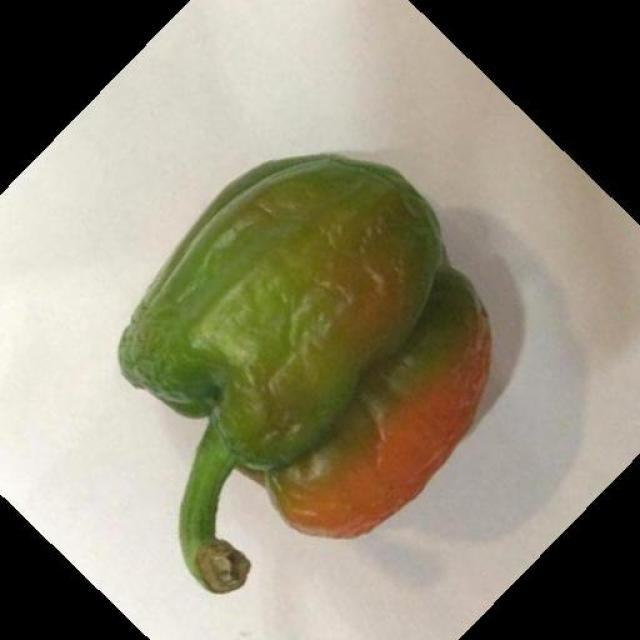Stale_Capsicum: (110, 138, 484, 530)
